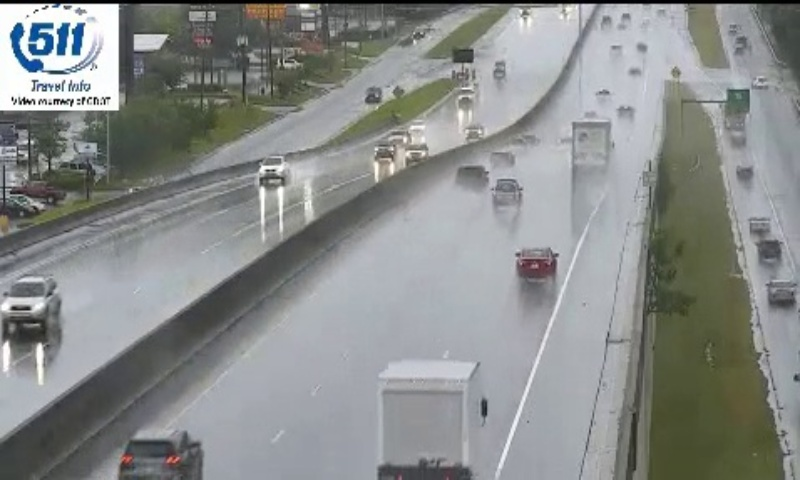car: (120, 428, 204, 480), (515, 249, 557, 280), (492, 177, 522, 209)
small-truck: (378, 360, 480, 480), (572, 120, 613, 173)
